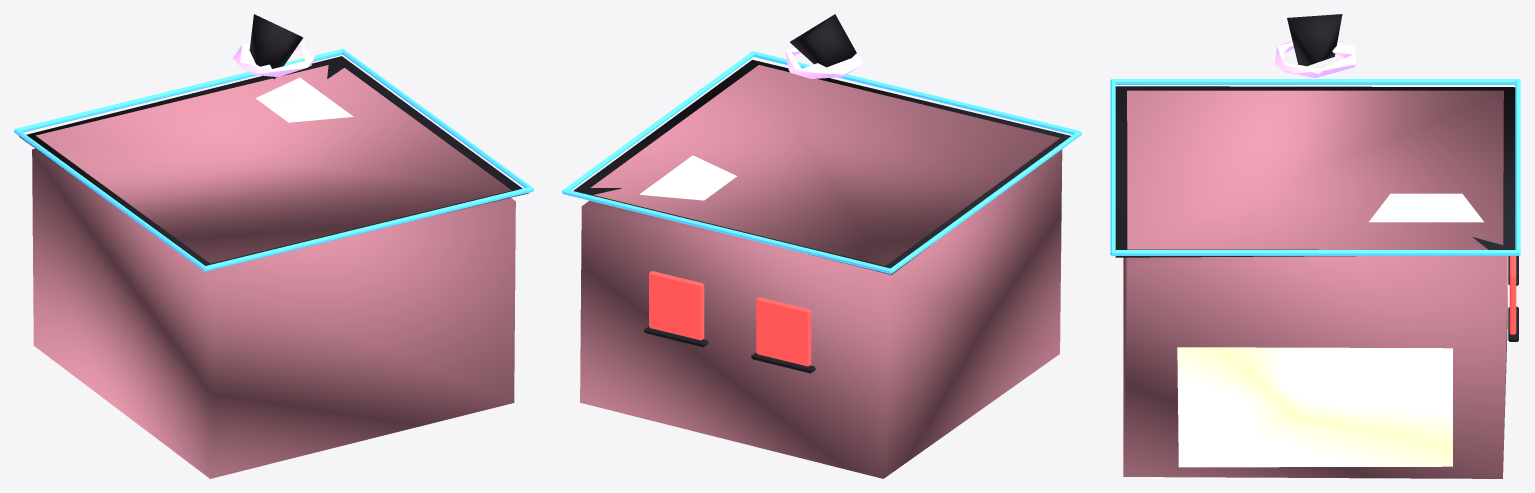
Rendered from karaoke.glb.
3 renders of one model, left to right at view 1: azimuth 30°, elevation 25°; view 2: azimuth 150°, elevation 25°; view 3: azimuth 270°, elevation 25°, orthographic. The views are drawn at different scales.
Parts seen in each view (by area): view 1: karaoke; view 2: karaoke; view 3: karaoke.
Boxes of the visible parts, x1,y1,x2,y2 form: karaoke: [14, 14, 533, 478]; karaoke: [562, 14, 1081, 478]; karaoke: [1110, 14, 1520, 478].
Bounding box in the file's own units: 7.4 × 7.64 × 7.4.
1 material, 1 textured.
